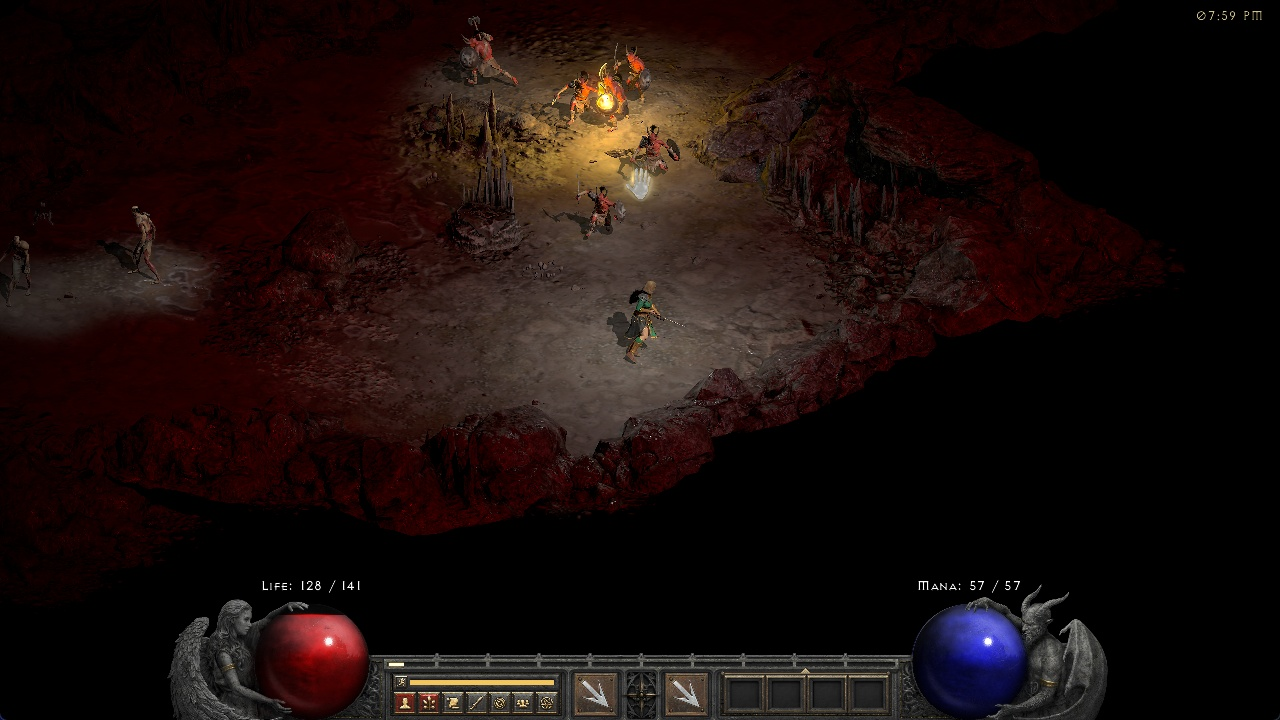fallen: (451, 24, 520, 91), (573, 182, 621, 238), (628, 130, 685, 174), (557, 76, 595, 128), (595, 69, 628, 128), (621, 48, 659, 97)
